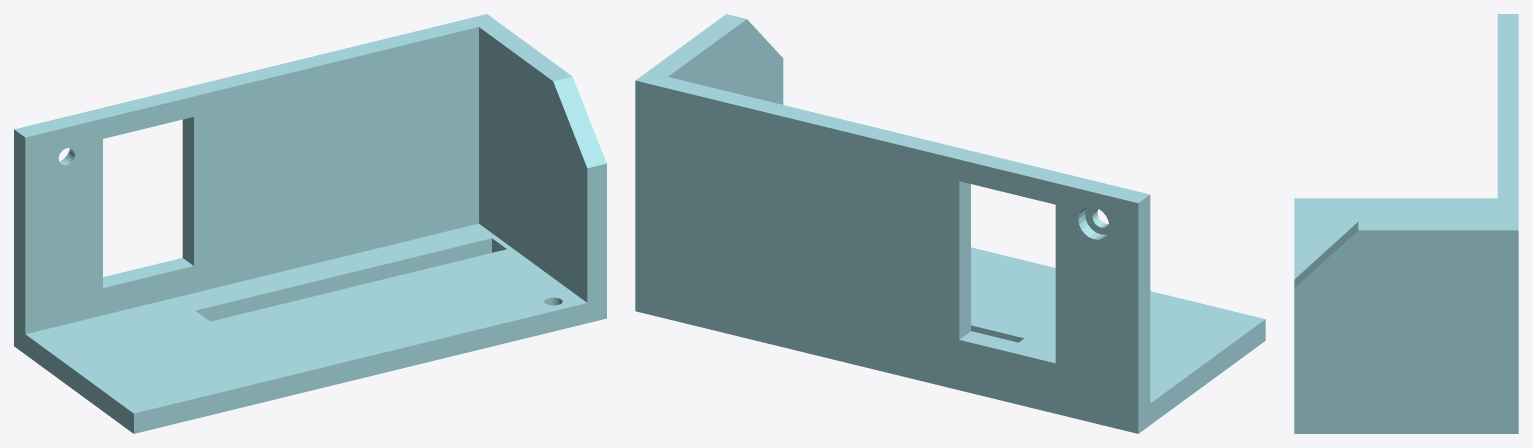
Rendered from tinker.obj.
3 renders of one model, left to right at view 1: azimuth 30°, elevation 25°; view 2: azimuth 150°, elevation 25°; view 3: azimuth 270°, elevation 25°, orthographic. The views are drawn at different scales.
Visible parts, largest first — view 1: obj_0; view 2: obj_0; view 3: obj_0.
Part boxes in pixels (x1,y1,x2,y2): obj_0: (14, 14, 606, 433); obj_0: (635, 14, 1265, 433); obj_0: (1294, 14, 1518, 433).
Bounding box in the file's own units: 73 × 32 × 32.
